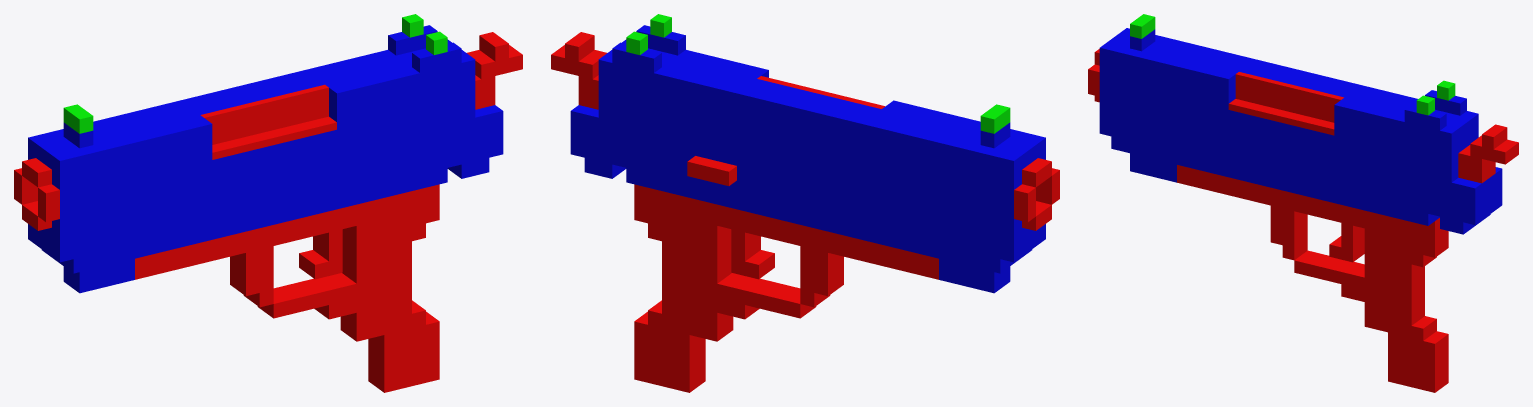
The model's file is Pistol.fbx.
3 renders of one model, left to right at view 1: azimuth 30°, elevation 25°; view 2: azimuth 150°, elevation 25°; view 3: azimuth 330°, elevation 25°, orthographic. The views are drawn at different scales.
Parts seen in each view (by area): view 1: Pistol.001; view 2: Pistol.001; view 3: Pistol.001.
Boxes of the visible parts, left/top/right/bottom form: Pistol.001: left=14, top=14, right=522, bottom=392; Pistol.001: left=551, top=14, right=1059, bottom=392; Pistol.001: left=1088, top=14, right=1518, bottom=392.
Bounding box in the file's own units: 700 × 480 × 100.
Materials: 1 (1 with a texture image).
